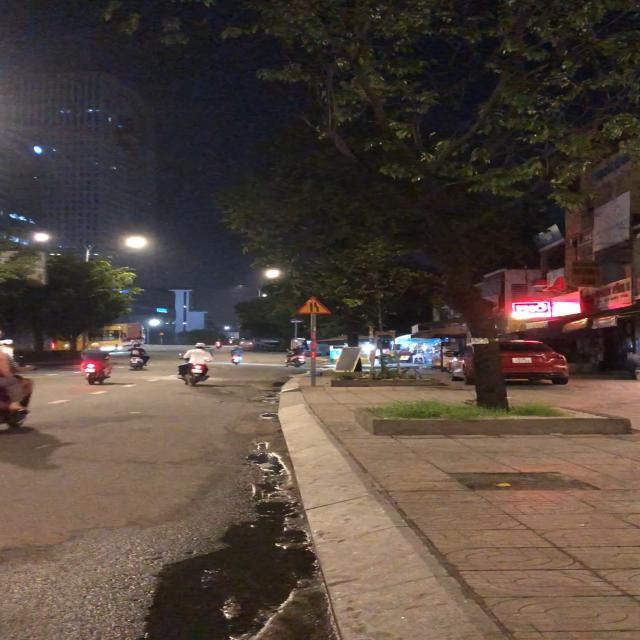Bien bao duong bi thu hep: (290, 295, 336, 315)
